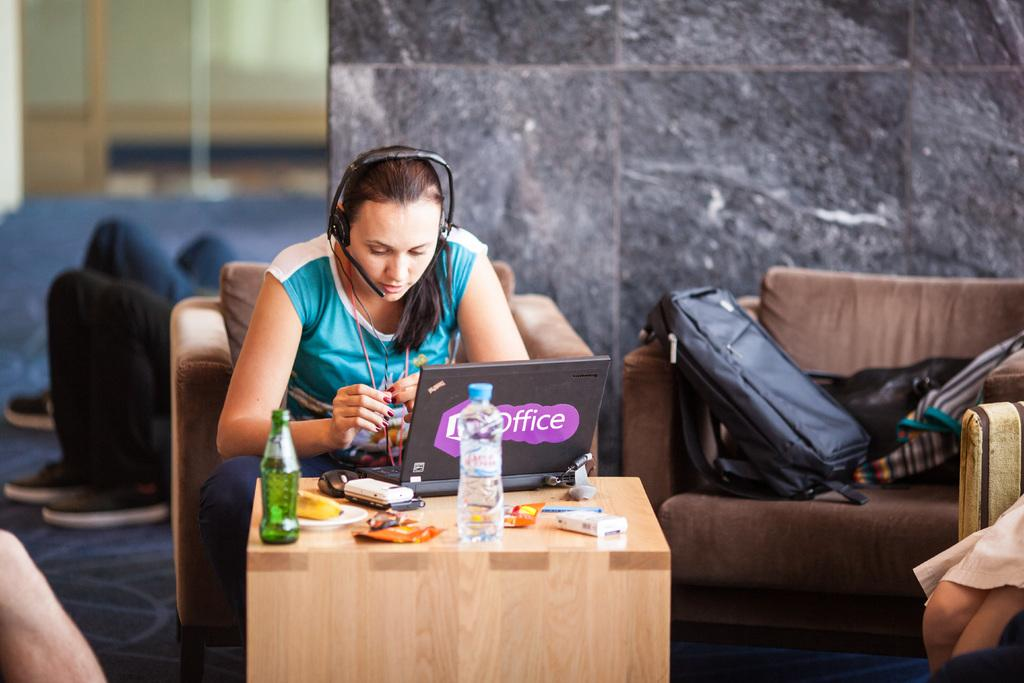Luggage-and-bags: (629, 288, 924, 547)
